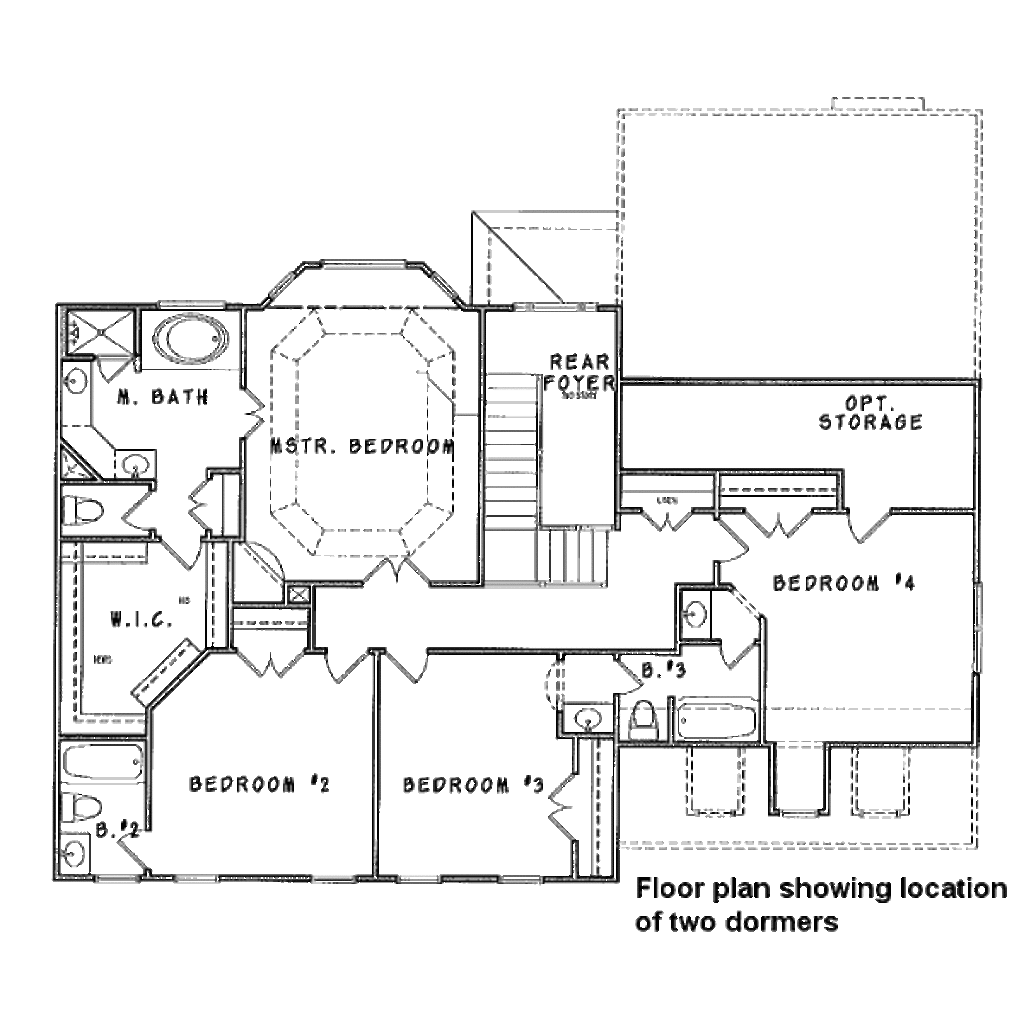door: (542, 770, 583, 844), (226, 644, 308, 679), (743, 501, 824, 536), (151, 534, 210, 571), (375, 645, 430, 683), (184, 471, 216, 534), (362, 557, 427, 588), (842, 504, 890, 544), (118, 486, 158, 532), (321, 648, 367, 685), (629, 506, 691, 531), (718, 636, 755, 669)
large_sink: (52, 484, 103, 533), (623, 694, 663, 746), (56, 789, 104, 826)
small_sink: (61, 359, 96, 429), (673, 585, 715, 639), (52, 832, 93, 882), (560, 697, 615, 733), (108, 444, 158, 482)
stairs: (479, 371, 612, 591)
tub: (139, 309, 252, 373), (667, 692, 762, 746), (55, 739, 150, 784)
windows: (505, 296, 604, 319), (968, 578, 987, 679), (314, 256, 413, 273)
